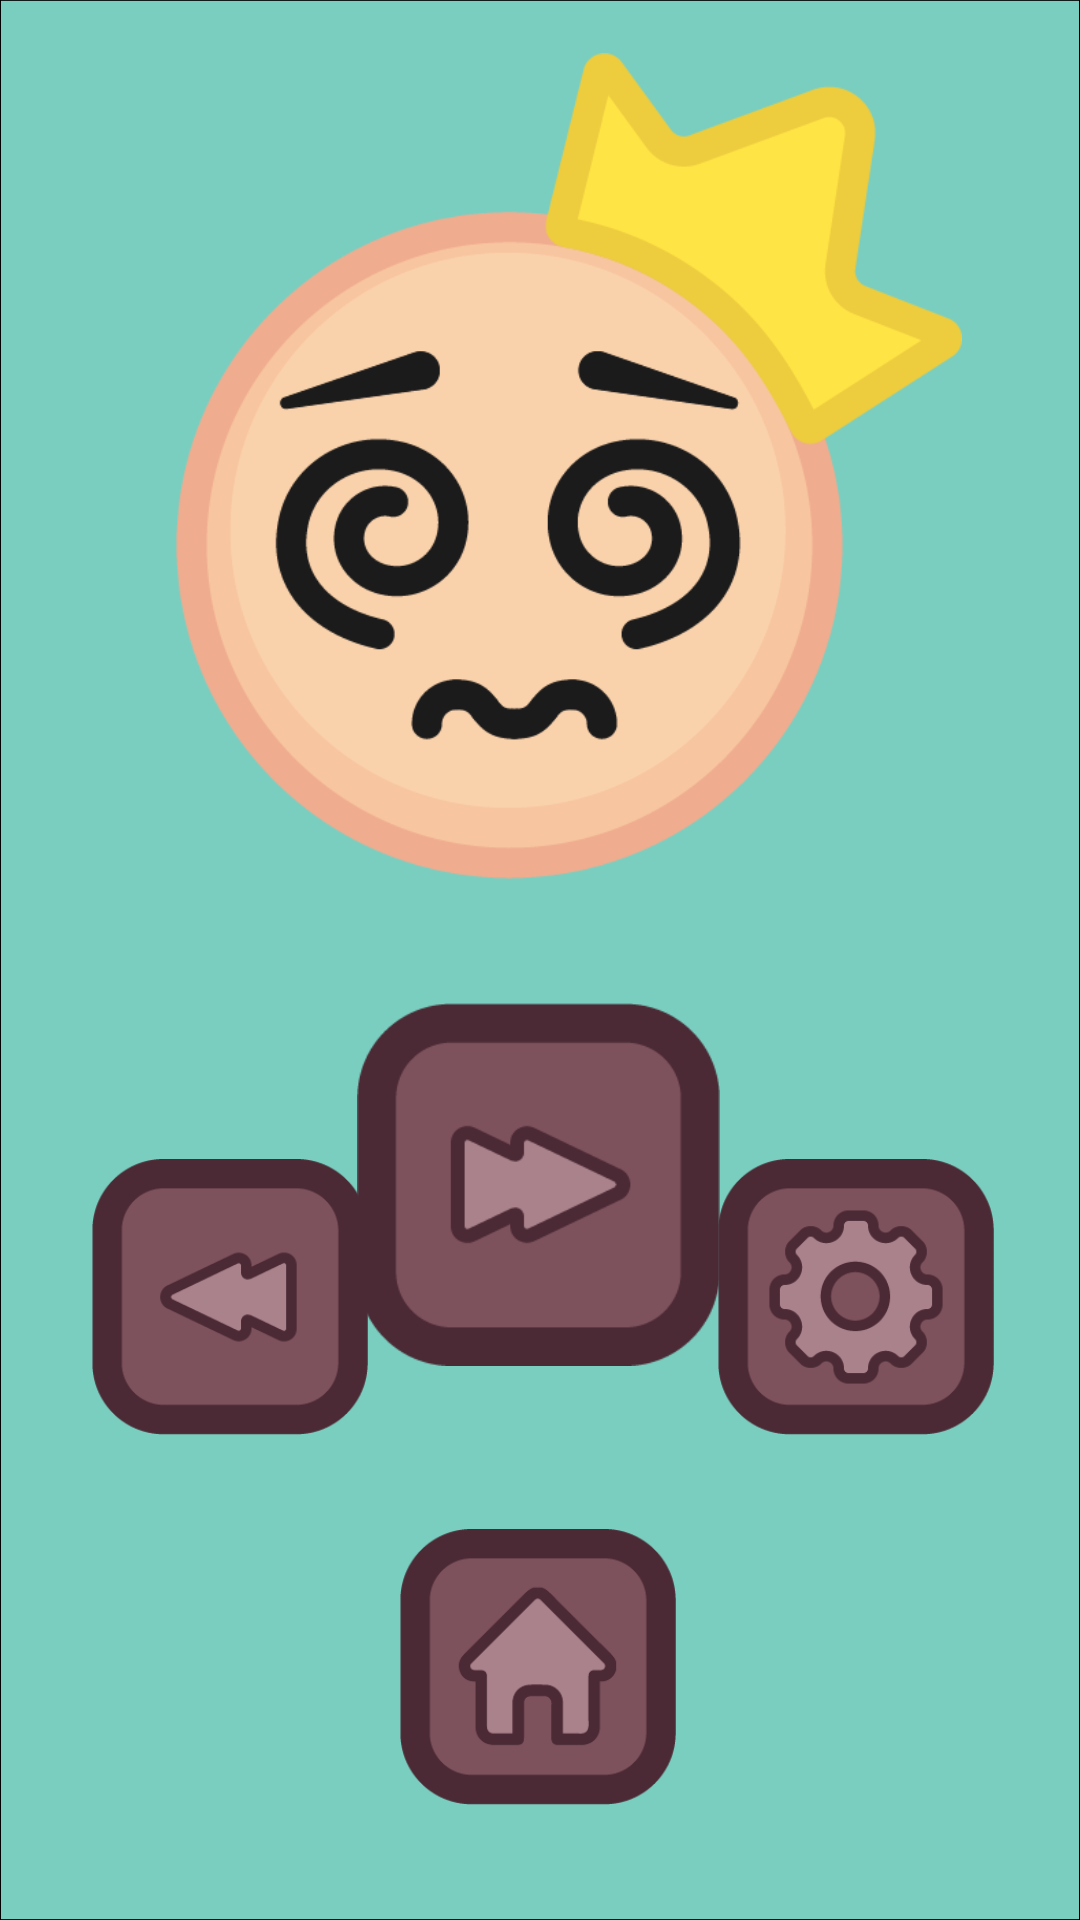

Screen size 1080 x 1920. Icon name, then its box in pixels as bbox(x1, y1, x2, y2):
options home: bbox(400, 1529, 676, 1805)
pause settings: bbox(718, 1150, 994, 1435)
